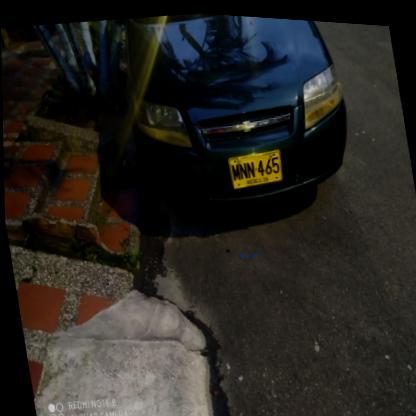placa: (221, 140, 286, 190)
